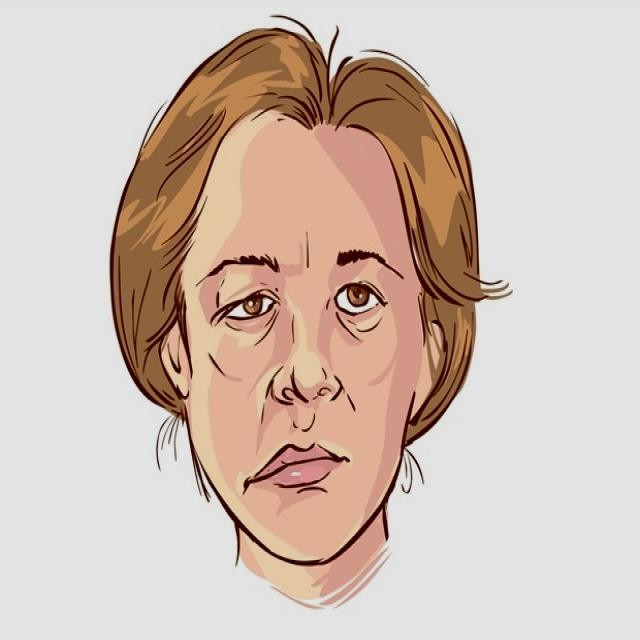stroke_face: (157, 50, 451, 559)
